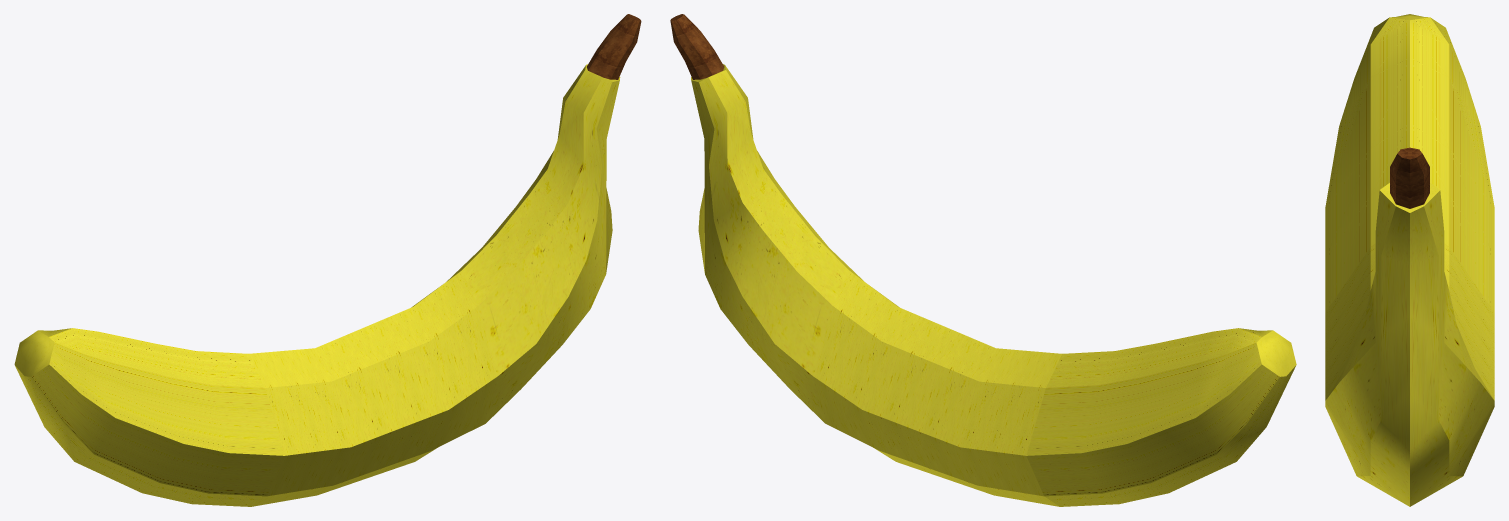
The model's file is Bana.fbx.
3 views of the same model, side by side, from view 1: azimuth 30°, elevation 25°; view 2: azimuth 150°, elevation 25°; view 3: azimuth 270°, elevation 25° (orthographic). The views are drawn at different scales.
Parts seen in each view (by area): view 1: Banana_body, Banana_top; view 2: Banana_body, Banana_top; view 3: Banana_body, Banana_top.
Part boxes in pixels (<box>): Banana_body: <box>14,64,620,506</box>; Banana_top: <box>587,14,641,79</box>; Banana_body: <box>691,64,1296,506</box>; Banana_top: <box>670,14,724,79</box>; Banana_body: <box>1325,14,1494,506</box>; Banana_top: <box>1390,147,1429,208</box>.
Size of the model in its own units: 5.43 by 3.39 by 1.06.
2 materials, 2 textured.
